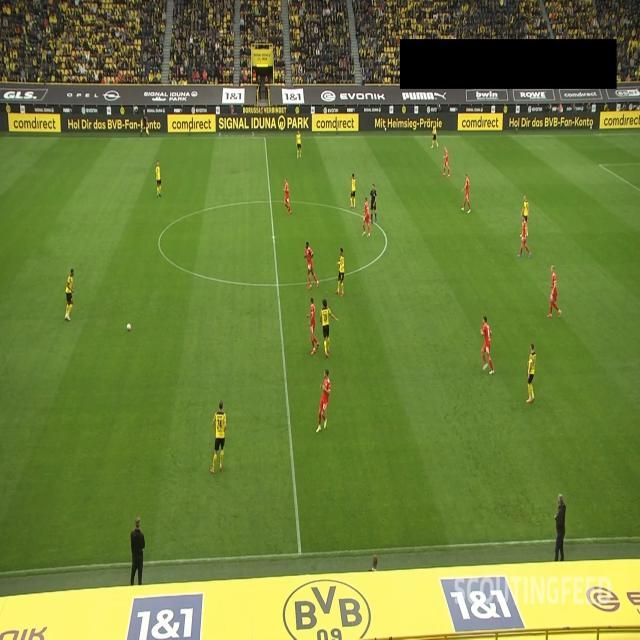ball: (126, 322, 132, 332)
